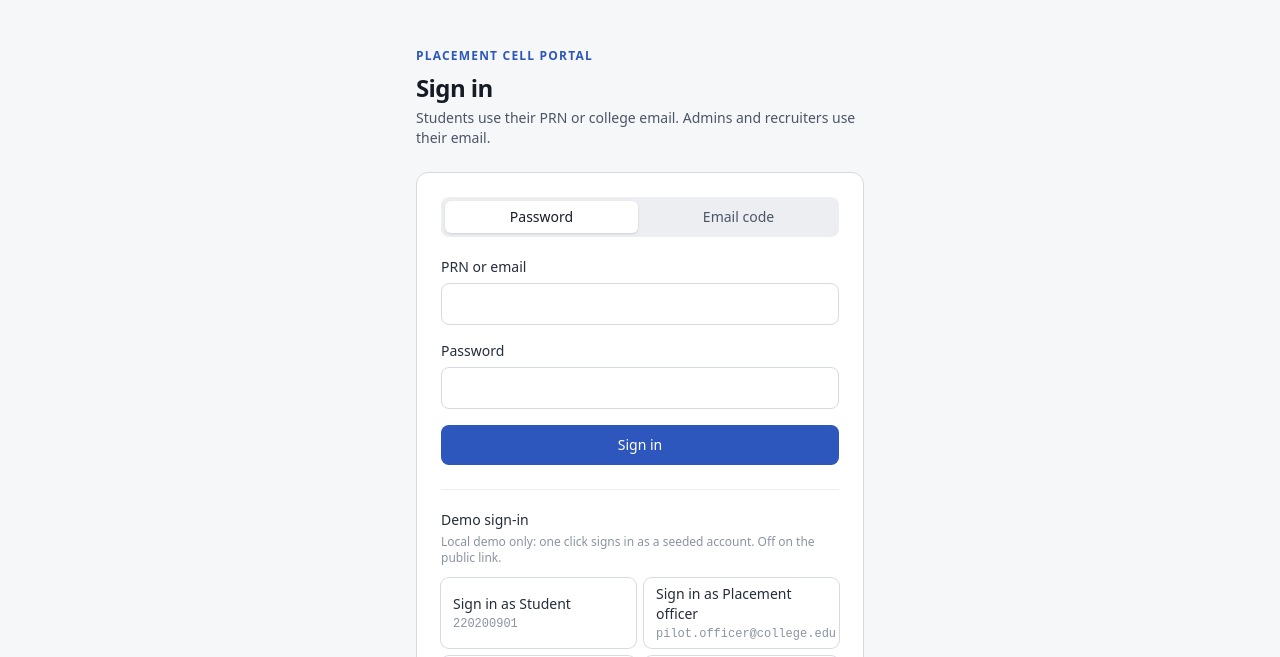
Test: one-click demo sign-in › signs in as the chosen persona and lands on that role’s dashboard
Click the button "Sign in as Placement officer pilot.officer@college.edu". click: click(742, 613)
box: [644,578,839,648]
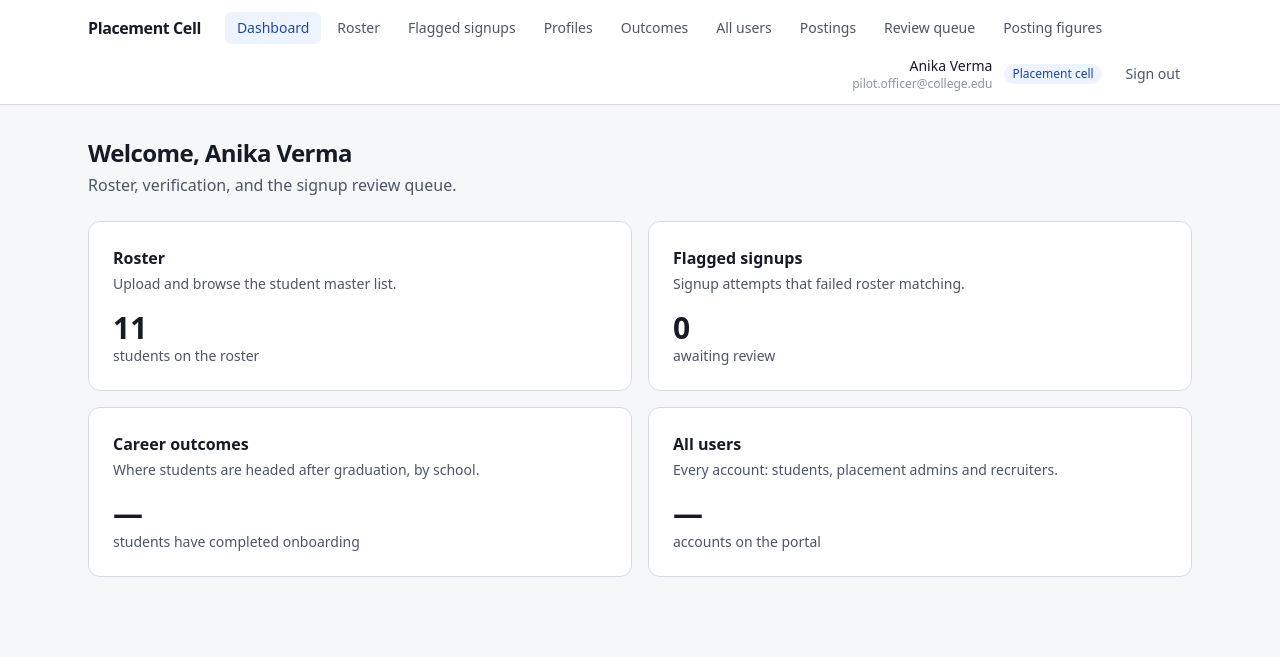
Check: the heading "Welcome, Anika Verma" is shown, box [88,136,352,169]
